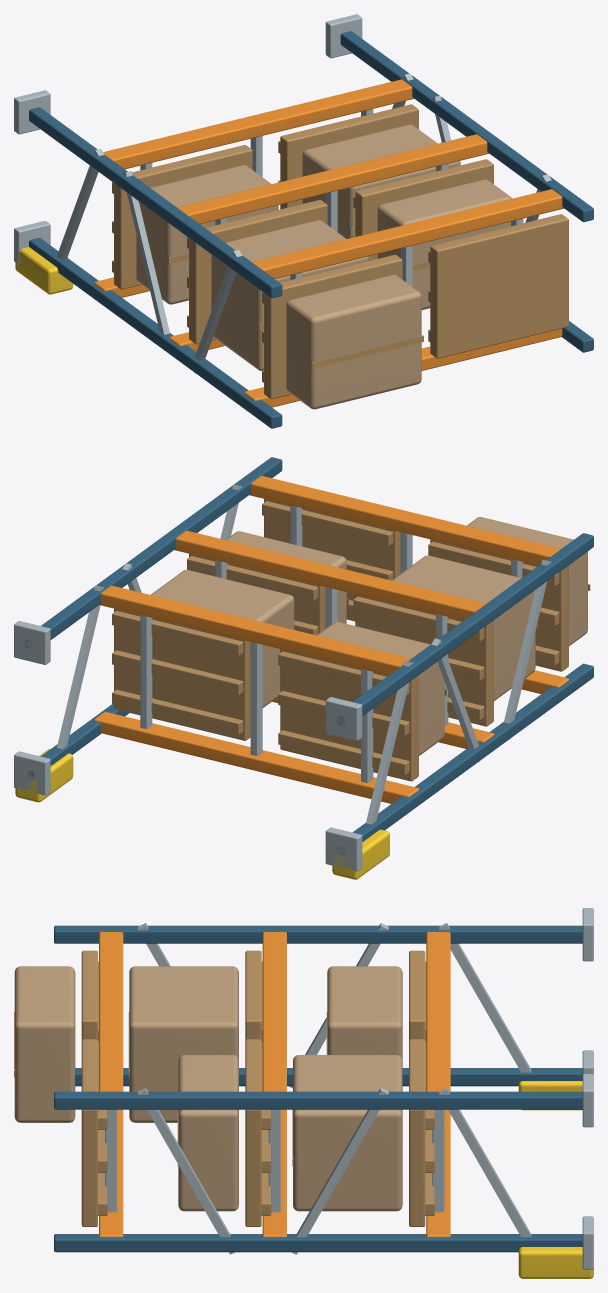
The model's file is hero_warehouse_rack.glb.
3 views of the same model, one above another, from view 1: azimuth 30°, elevation 25°; view 2: azimuth 150°, elevation 25°; view 3: azimuth 270°, elevation 25° (orthographic). The views are drawn at different scales.
Parts seen in each view (by area): view 1: Pallet slatted base.005, Wrapped carton load.004, Orange load beam.003, Orange load beam.005, Orange load beam.001, Wrapped carton load.002, Wrapped carton load, Rack upright.001, Rack upright, Rack upright.003, Wrapped carton load.001, Wrapped carton load.003 (+15 smaller); view 2: Pallet slatted base.001, Orange load beam.003, Orange load beam.001, Orange load beam.005, Orange load beam, Pallet slatted base, Wrapped carton load.002, Wrapped carton load.001, Rack upright.001, Rack upright, Rack upright.003, Pallet slatted base.002 (+32 smaller); view 3: Wrapped carton load.001, Wrapped carton load.002, Rack upright.003, Rack upright.002, Wrapped carton load.004, Rack upright.001, Wrapped carton load.003, Wrapped carton load, Orange load beam.003, Orange load beam.005, Orange load beam.001, Pallet slatted base.001 (+22 smaller).
Part boxes in pixels (x1,y1,x2,y2): Pallet slatted base.005: (430, 214, 568, 358); Wrapped carton load.004: (286, 275, 421, 409); Orange load beam.003: (177, 134, 488, 224); Orange load beam.005: (252, 189, 563, 278); Orange load beam.001: (103, 79, 413, 169); Wrapped carton load.002: (211, 220, 369, 370); Wrapped carton load: (136, 165, 278, 304); Rack upright.001: (29, 107, 282, 298); Rack upright: (29, 237, 282, 428); Rack upright.003: (340, 31, 593, 221); Wrapped carton load.001: (302, 124, 460, 238); Wrapped carton load.003: (377, 179, 511, 309); Pallet slatted base.001: (114, 608, 250, 740); Orange load beam.003: (174, 530, 486, 620); Orange load beam.001: (99, 585, 410, 675); Orange load beam.005: (249, 475, 560, 565); Orange load beam: (94, 711, 419, 803); Pallet slatted base: (280, 649, 418, 781); Wrapped carton load.002: (392, 555, 535, 700); Wrapped carton load.001: (151, 569, 294, 707); Rack upright.001: (337, 533, 593, 725); Rack upright: (337, 663, 593, 855); Rack upright.003: (25, 457, 282, 649); Pallet slatted base.002: (355, 594, 493, 726); Wrapped carton load.001: (293, 1055, 402, 1211); Wrapped carton load.002: (129, 966, 238, 1122); Rack upright.003: (54, 1091, 582, 1109); Rack upright.002: (54, 1234, 582, 1252); Wrapped carton load.004: (14, 966, 75, 1122); Rack upright.001: (54, 925, 582, 943); Wrapped carton load.003: (178, 1055, 238, 1211); Wrapped carton load: (327, 966, 402, 1060); Orange load beam.003: (262, 932, 286, 1091); Orange load beam.005: (99, 932, 123, 1091); Orange load beam.001: (426, 932, 450, 1091); Pallet slatted base.001: (409, 1039, 425, 1226).
Size of the model in its own units: 2.65 by 1.28 by 3.54.
